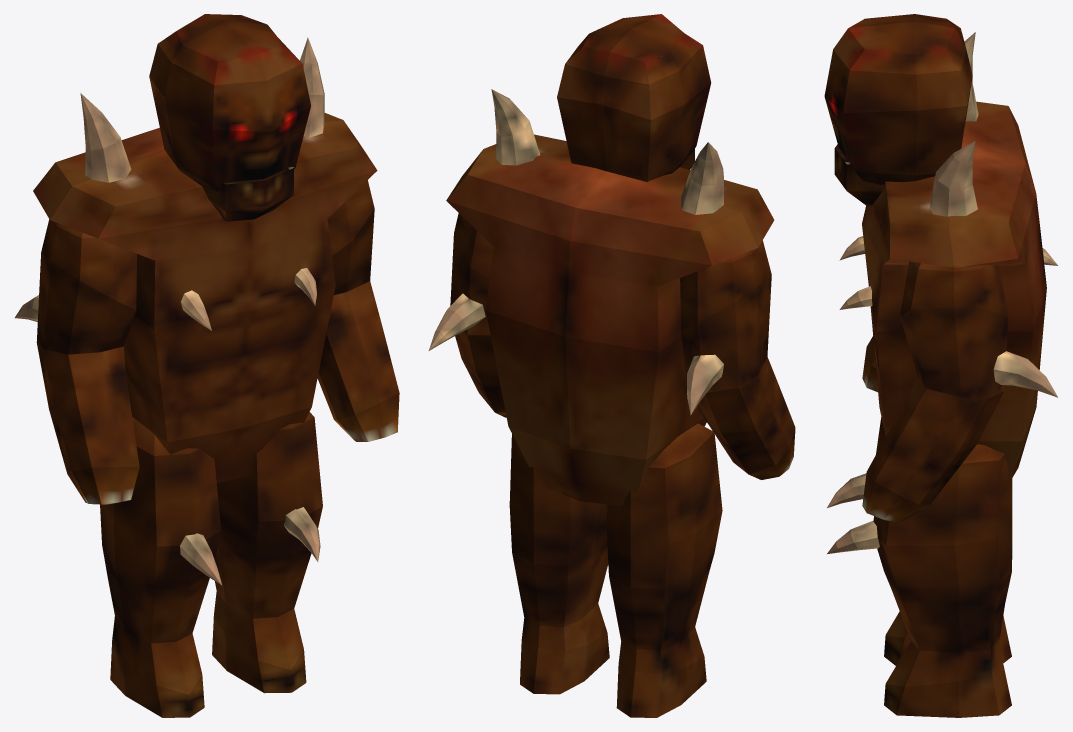
File: belph.obj
The picture shows the model from 3 angles, left to right: view 1: azimuth 30°, elevation 25°; view 2: azimuth 150°, elevation 25°; view 3: azimuth 270°, elevation 25°; orthographic projection. The views are drawn at different scales.
Visible parts, largest first — view 1: Body, LegRight, LegLeft, Head, ArmRightLower, ArmRightUpper, ArmLeftLower, ArmLeftUpper, Mouth; view 2: Body, LegRight, Head, LegLeft, ArmRightUpper, ArmRightLower, ArmLeftUpper, ArmLeftLower; view 3: Body, LegLeft, Head, ArmLeftUpper, ArmLeftLower, LegRight, Mouth, ArmRightLower.
Part boxes in pixels (left/top/right/bottom): Body: left=33, top=37, right=377, bottom=483; LegRight: left=100, top=417, right=222, bottom=717; LegLeft: left=212, top=412, right=322, bottom=693; Head: left=149, top=14, right=310, bottom=191; ArmRightLower: left=37, top=343, right=139, bottom=504; ArmRightUpper: left=15, top=219, right=136, bottom=354; ArmLeftLower: left=317, top=281, right=399, bottom=441; ArmLeftUpper: left=327, top=180, right=374, bottom=294; Mouth: left=202, top=165, right=293, bottom=221; Body: left=446, top=89, right=774, bottom=505; LegRight: left=606, top=423, right=722, bottom=717; Head: left=557, top=14, right=711, bottom=181; LegLeft: left=509, top=434, right=609, bottom=694; ArmRightUpper: left=680, top=240, right=771, bottom=414; ArmRightLower: left=686, top=357, right=795, bottom=479; ArmLeftUpper: left=428, top=213, right=493, bottom=350; ArmLeftLower: left=455, top=331, right=506, bottom=417; Body: left=839, top=32, right=1046, bottom=477; LegLeft: left=827, top=444, right=1012, bottom=717; Head: left=824, top=14, right=972, bottom=184; ArmLeftUpper: left=900, top=261, right=1057, bottom=399; ArmLeftLower: left=862, top=377, right=1003, bottom=522; LegRight: left=827, top=417, right=1011, bottom=665; Mouth: left=834, top=144, right=884, bottom=205; ArmRightLower: left=862, top=336, right=877, bottom=392.
Bounding box in the file's own units: 1.02 × 2.05 × 0.6577.
2 materials, 2 textured.
